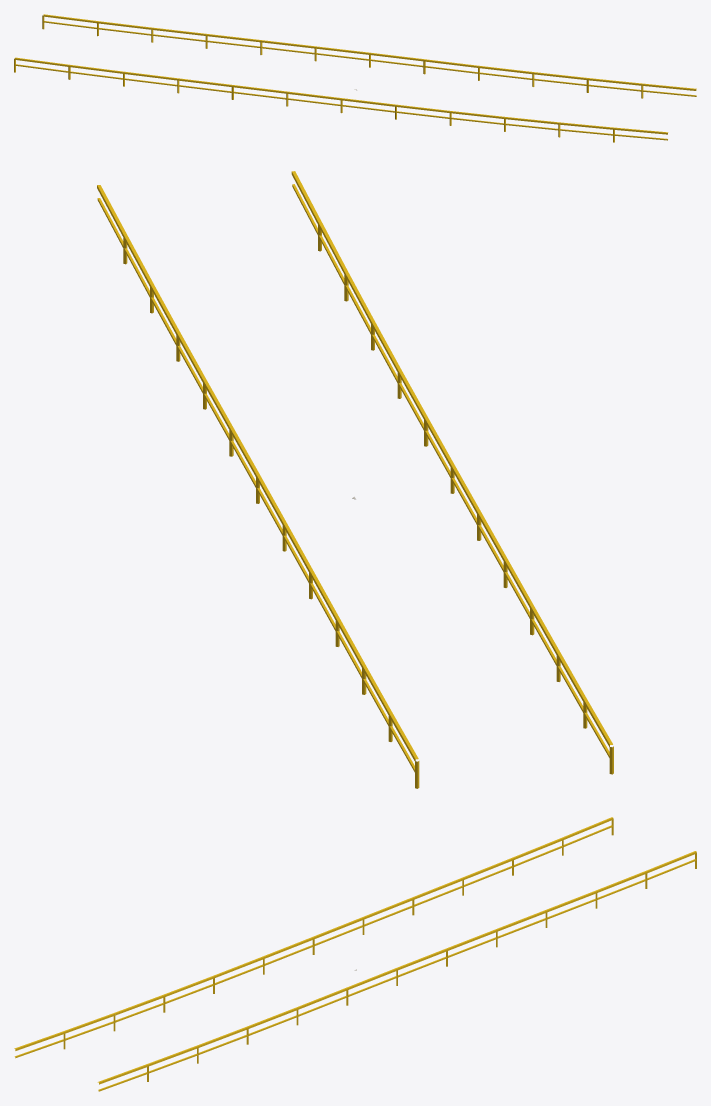
The model's file is spaans_pedbridge.glb.
3 views of the same model, one above another, from view 1: azimuth 30°, elevation 25°; view 2: azimuth 150°, elevation 25°; view 3: azimuth 270°, elevation 25° (orthographic). The views are drawn at different scales.
Visible parts, largest first — view 1: spaans_pedbridge_lod0; view 2: spaans_pedbridge_lod0; view 3: spaans_pedbridge_lod0.
Boxes of the visible parts, x1=… form: spaans_pedbridge_lod0: x1=14, y1=14, x2=696, y2=142; spaans_pedbridge_lod0: x1=97, y1=171, x2=613, y2=788; spaans_pedbridge_lod0: x1=14, y1=817, x2=696, y2=1091.
Size of what is drawn, in the model's own units: 43.42 by 2.19 by 45.12.
